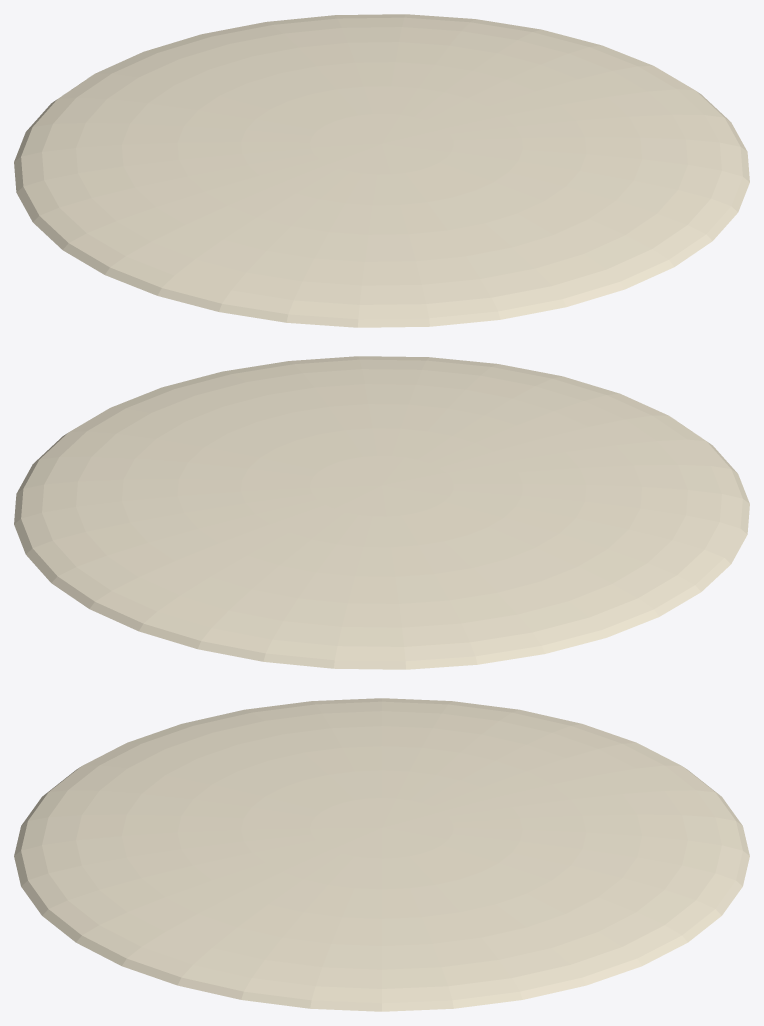
Rendered from place-tucume-pyramids.glb.
3 renders of one model, top to bottom at view 1: azimuth 30°, elevation 25°; view 2: azimuth 150°, elevation 25°; view 3: azimuth 270°, elevation 25°, orthographic.
Parts seen in each view (by area): view 1: place-tucume-pyramids; view 2: place-tucume-pyramids; view 3: place-tucume-pyramids.
Boxes of the visible parts, x1,y1,x2,y2 form: place-tucume-pyramids: (14,14,749,327); place-tucume-pyramids: (14,356,749,669); place-tucume-pyramids: (14,698,749,1011).
Size of the model in its own units: 700 by 30 by 700.
